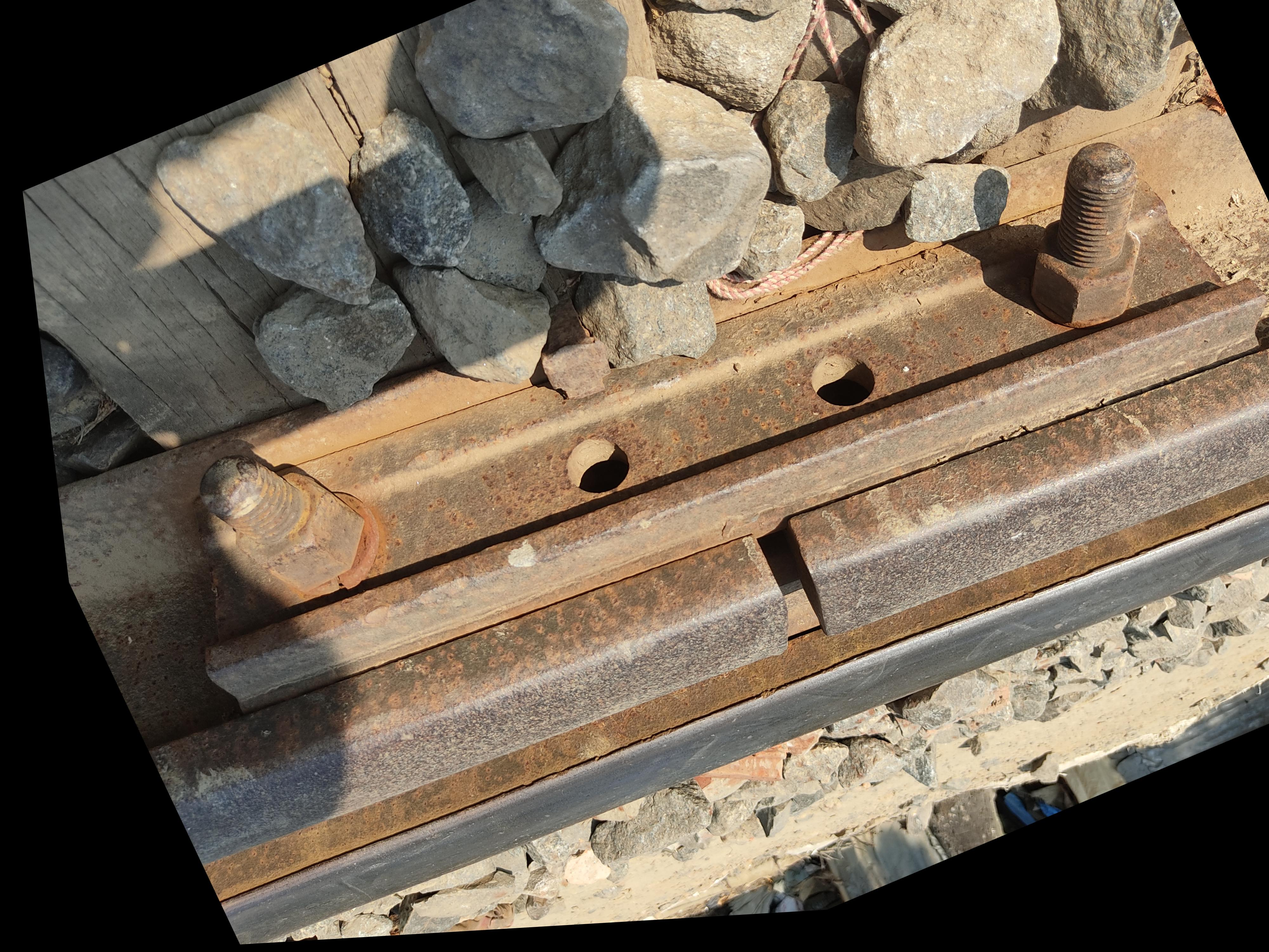person: (491, 803, 592, 902)
